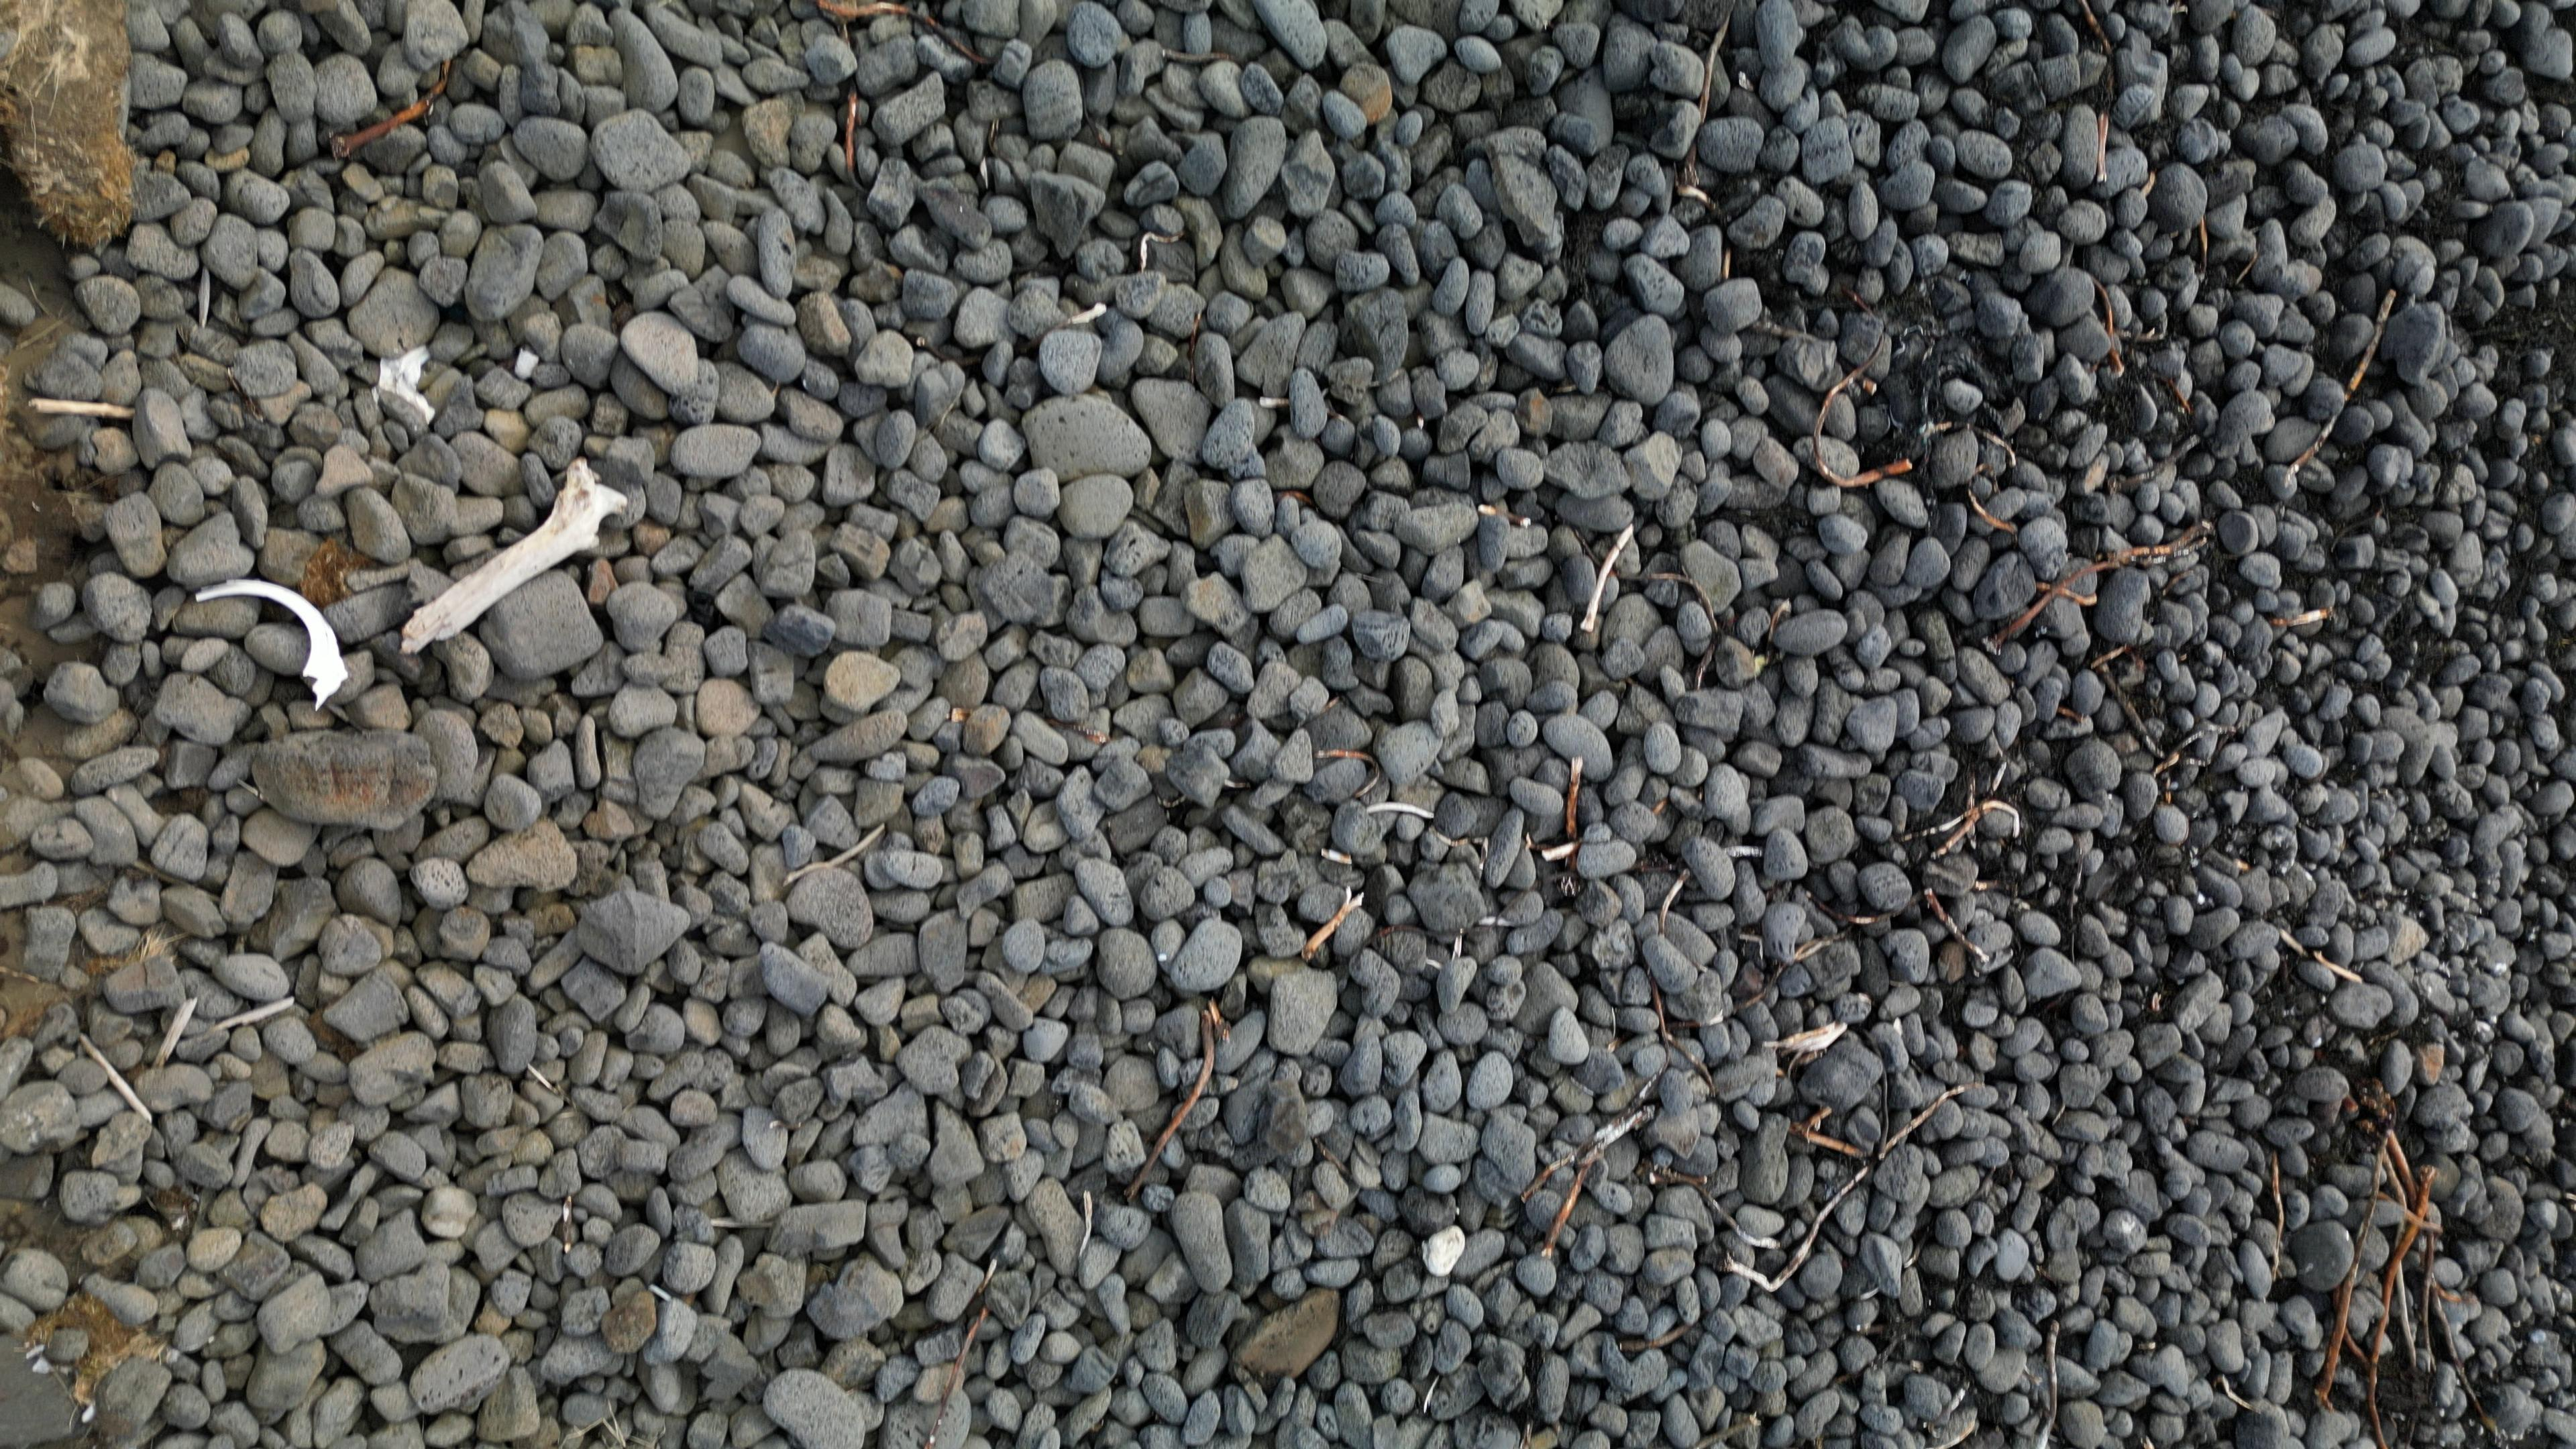trash: (196, 579, 347, 704)
